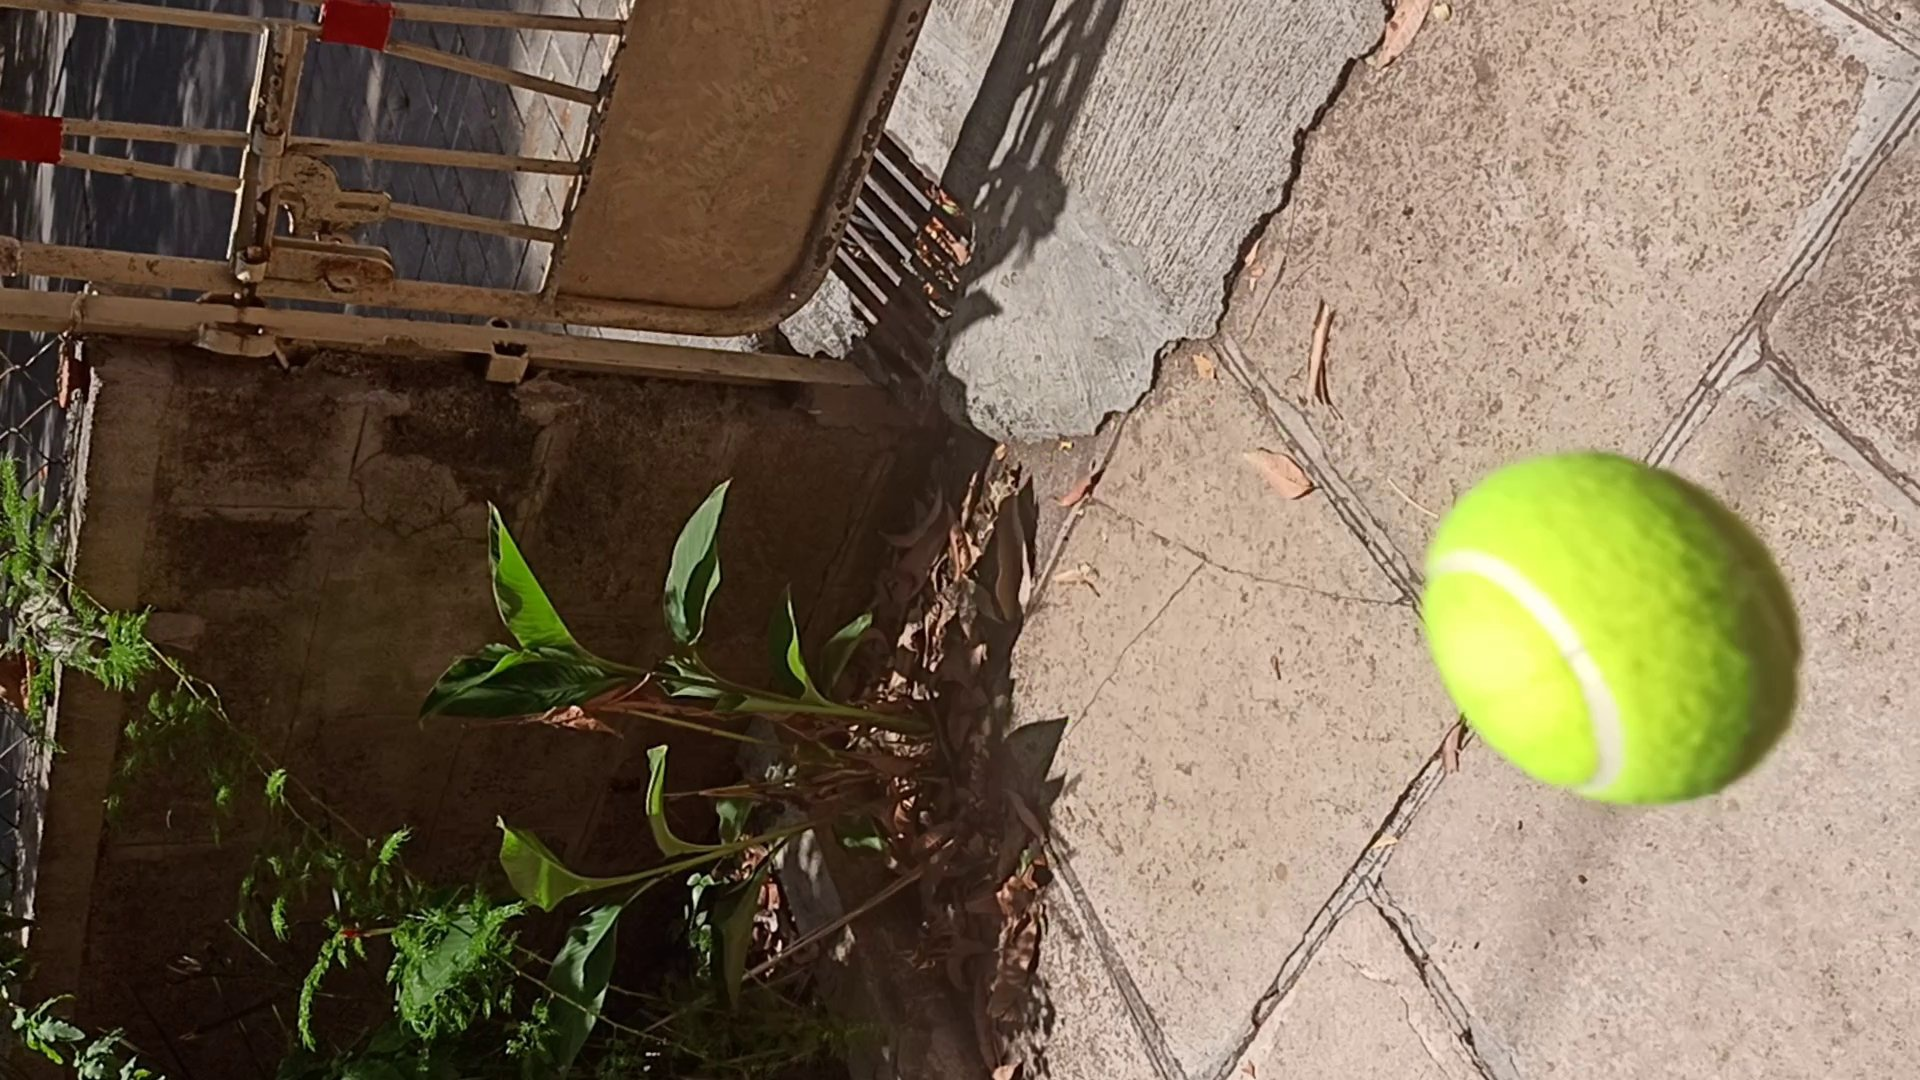Tennis-Ball: (1422, 454, 1800, 804)
